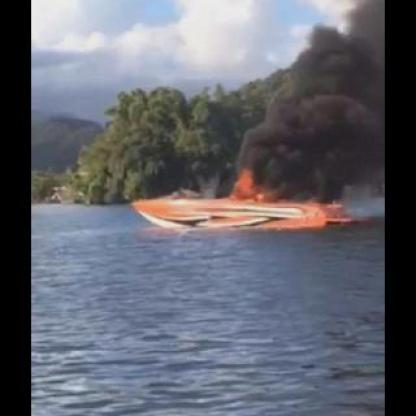fire: (229, 168, 266, 205)
